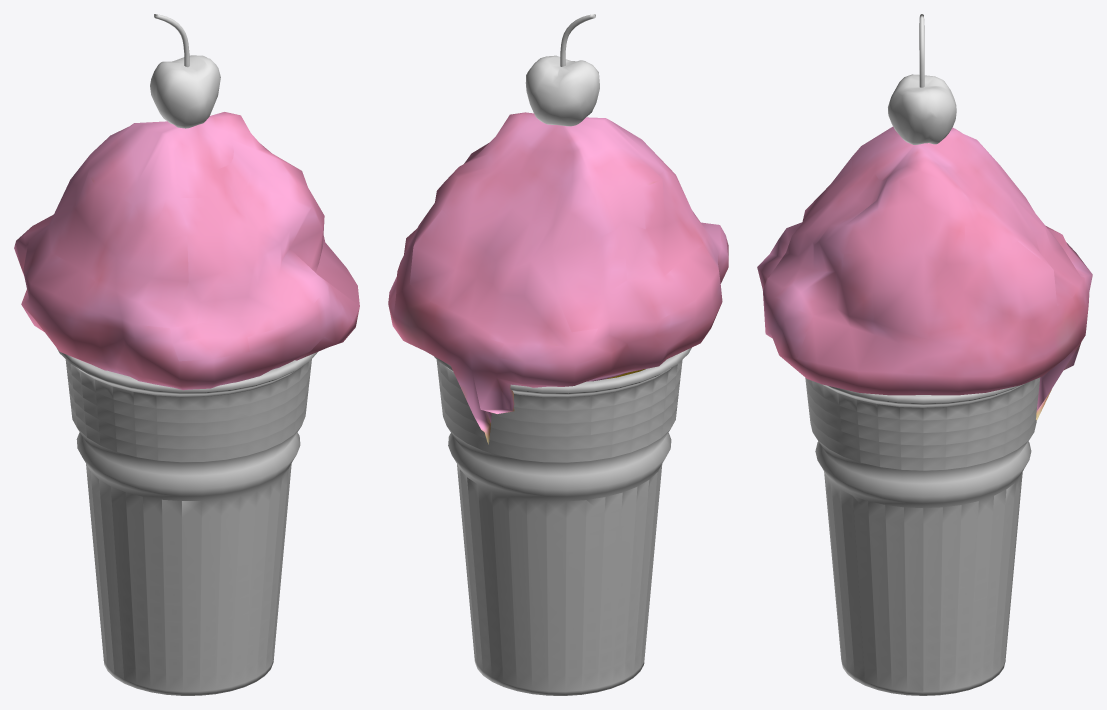
File: icecreamcone.fbx
3 renders of one model, left to right at view 1: azimuth 30°, elevation 25°; view 2: azimuth 150°, elevation 25°; view 3: azimuth 270°, elevation 25°, orthographic. The views are drawn at different scales.
Parts seen in each view (by area): view 1: Ice Cream, Sphere; view 2: Ice Cream, Sphere; view 3: Ice Cream, Sphere.
Boxes of the visible parts, x1,y1,x2,y2 form: Ice Cream: [14, 112, 359, 695]; Sphere: [150, 55, 220, 128]; Ice Cream: [388, 112, 728, 695]; Sphere: [525, 55, 599, 126]; Ice Cream: [757, 126, 1092, 695]; Sphere: [888, 74, 956, 144].
Size of the model in its own units: 261 by 559 by 270.
